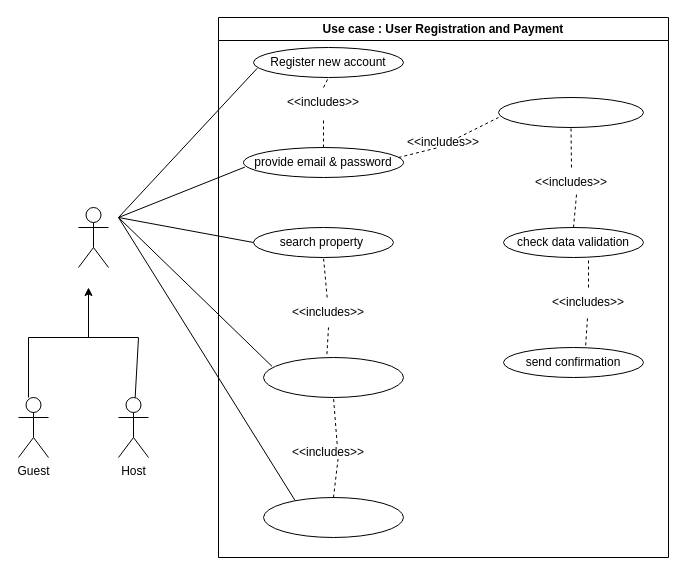
Some shapes in this 686 by 575 pixel diagram are drawn without their labels. Each missing label, with the centre of its shape:
"book property" belongs at pixel 333 377.
"check duplication" belongs at pixel 571 112.
"choose payment options" belongs at pixel 333 517.
"User" belongs at pixel 93 237.
